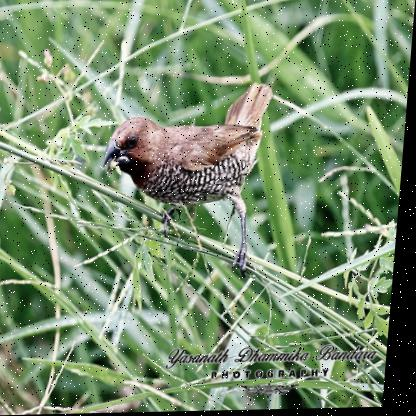Burung: (98, 82, 273, 280)
